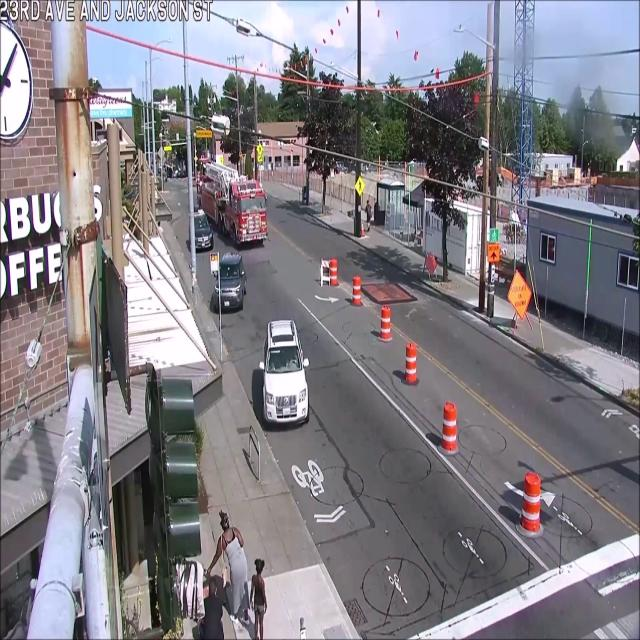traffic-light: (259, 320, 309, 424), (211, 252, 247, 311), (194, 210, 214, 252)
truck: (200, 166, 267, 244)
